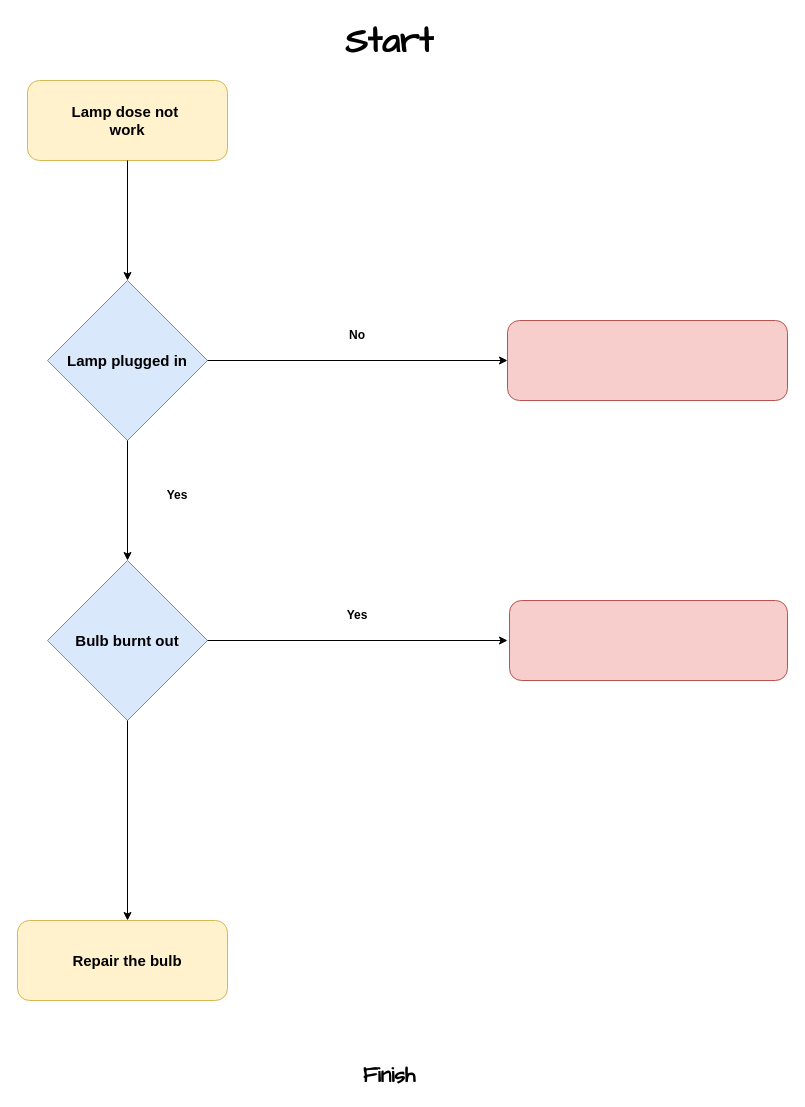
Image size: 805x1107. Some labels were removed from this diagram. Here are the shapes that lost their labels. From the top down, the box of each, then its label:
(506, 320, 788, 400): Lamp in plug
(508, 600, 788, 680): Replace the bulb
